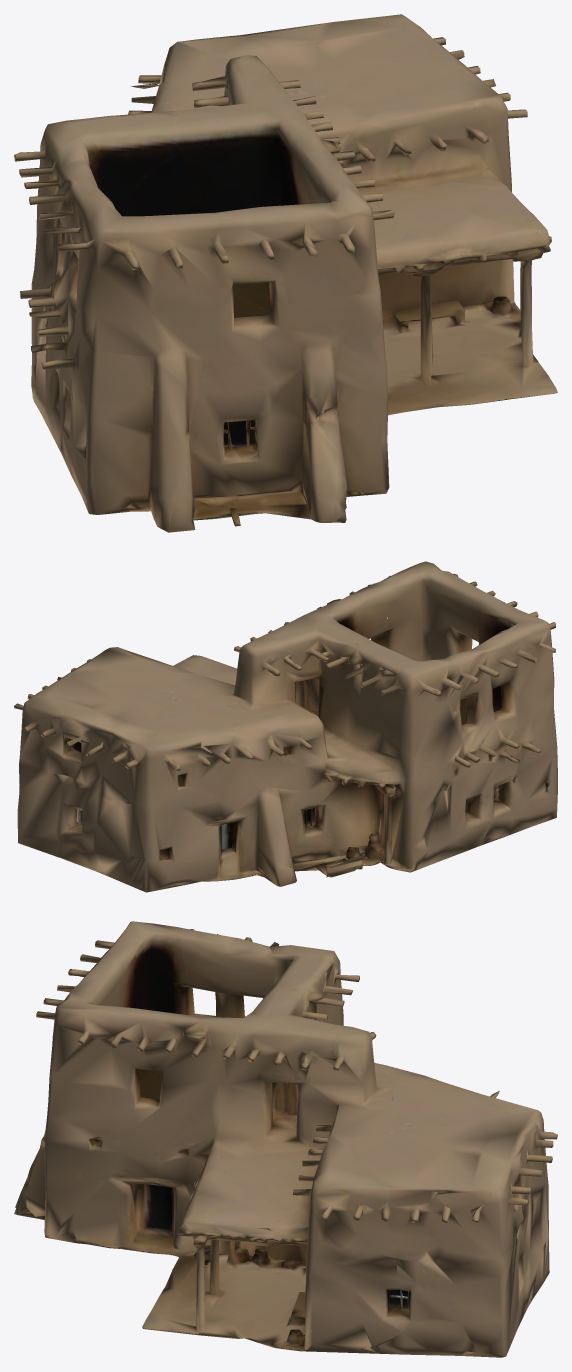
Rendered from uy_kichik.glb.
3 renders of one model, top to bottom at view 1: azimuth 30°, elevation 25°; view 2: azimuth 150°, elevation 25°; view 3: azimuth 270°, elevation 25°, orthographic. The views are drawn at different scales.
Parts seen in each view (by area): view 1: tripo_node_bf7860e6-70eb-4b79-b547-4958fd9a89ec; view 2: tripo_node_bf7860e6-70eb-4b79-b547-4958fd9a89ec; view 3: tripo_node_bf7860e6-70eb-4b79-b547-4958fd9a89ec.
Part boxes in pixels (<box>): tripo_node_bf7860e6-70eb-4b79-b547-4958fd9a89ec: <box>14,14,557,532</box>; tripo_node_bf7860e6-70eb-4b79-b547-4958fd9a89ec: <box>14,561,557,892</box>; tripo_node_bf7860e6-70eb-4b79-b547-4958fd9a89ec: <box>14,921,557,1357</box>.
Bounding box in the file's own units: 0.9773 × 0.4522 × 0.9778.
1 material, 1 textured.
